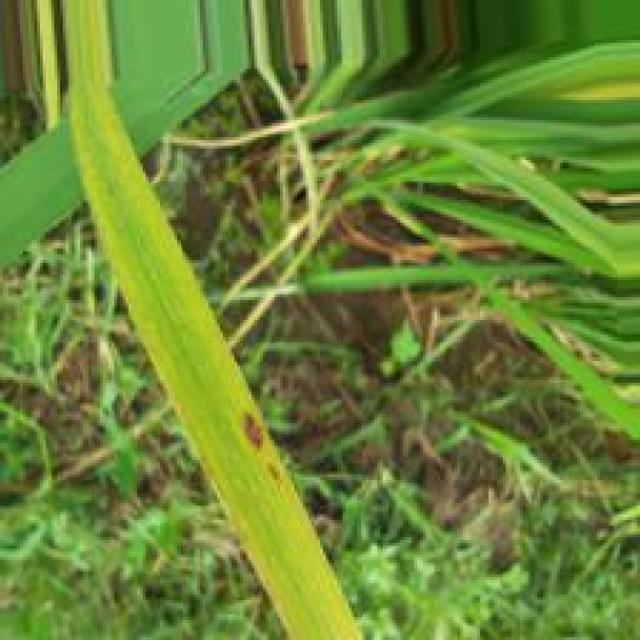Brown_Spot: (241, 407, 268, 453), (262, 457, 288, 483)
